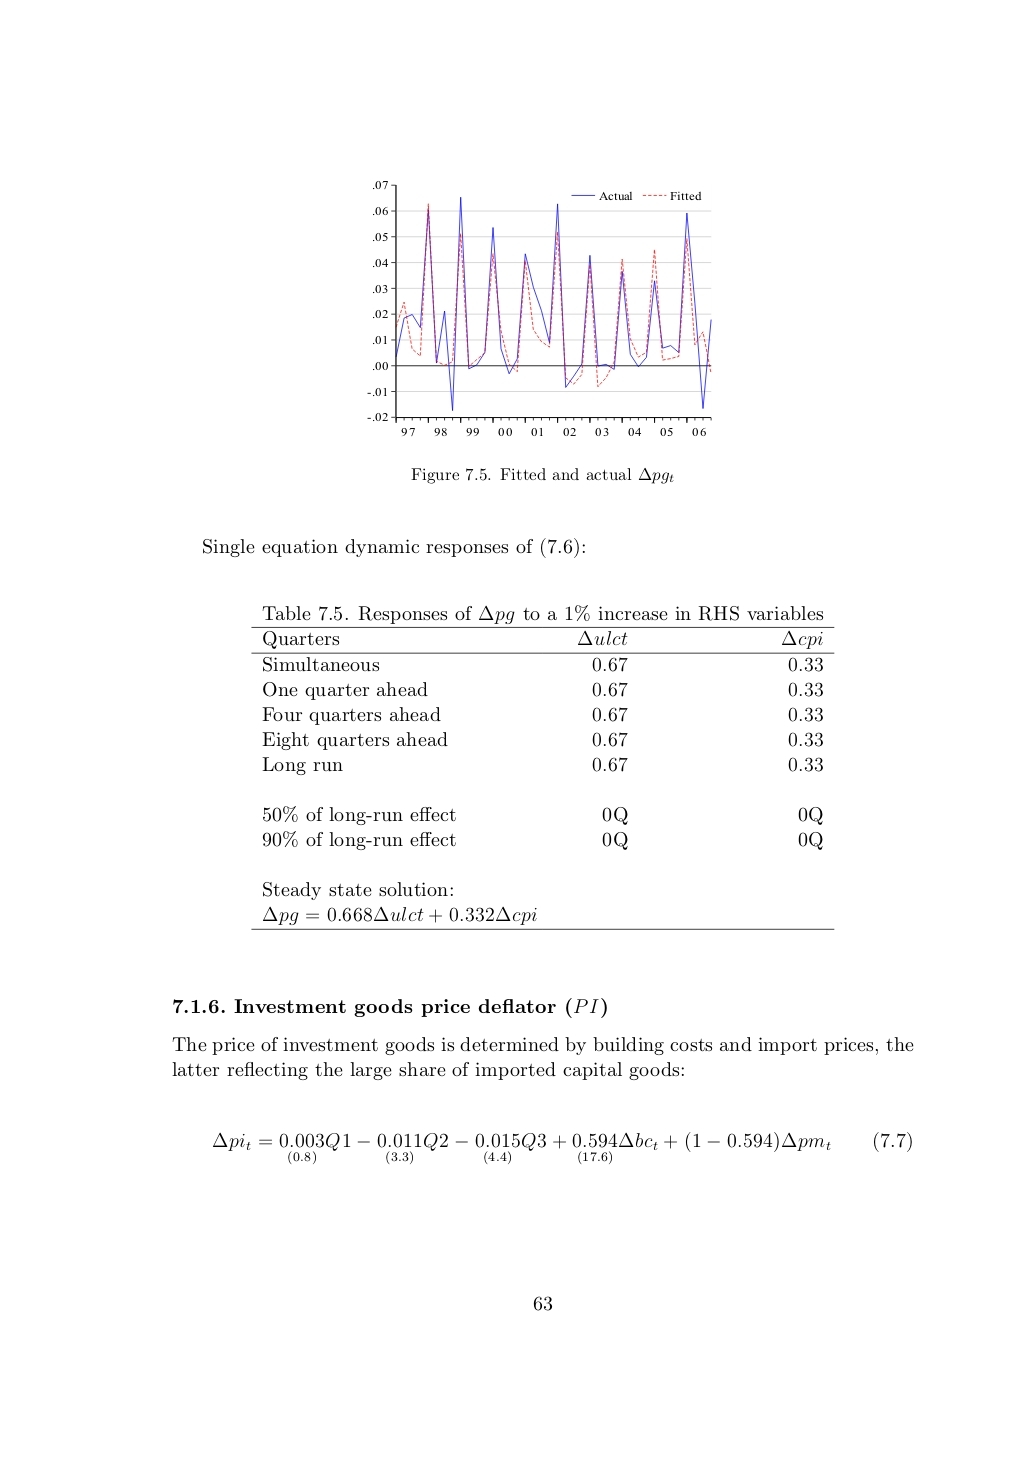Table: (251, 605, 834, 929)
figure: (367, 181, 711, 436)
formula: (213, 1131, 911, 1165)
